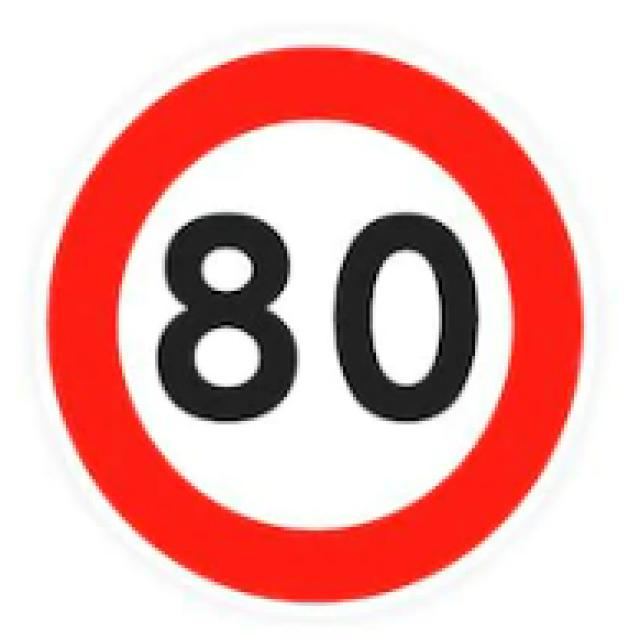Speed Limit -80-: (152, 212, 482, 424)
